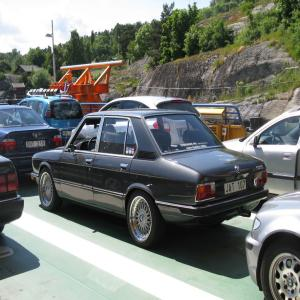Vehicle-registration-plate: (225, 179, 249, 197), (27, 141, 46, 150), (63, 132, 73, 138)
